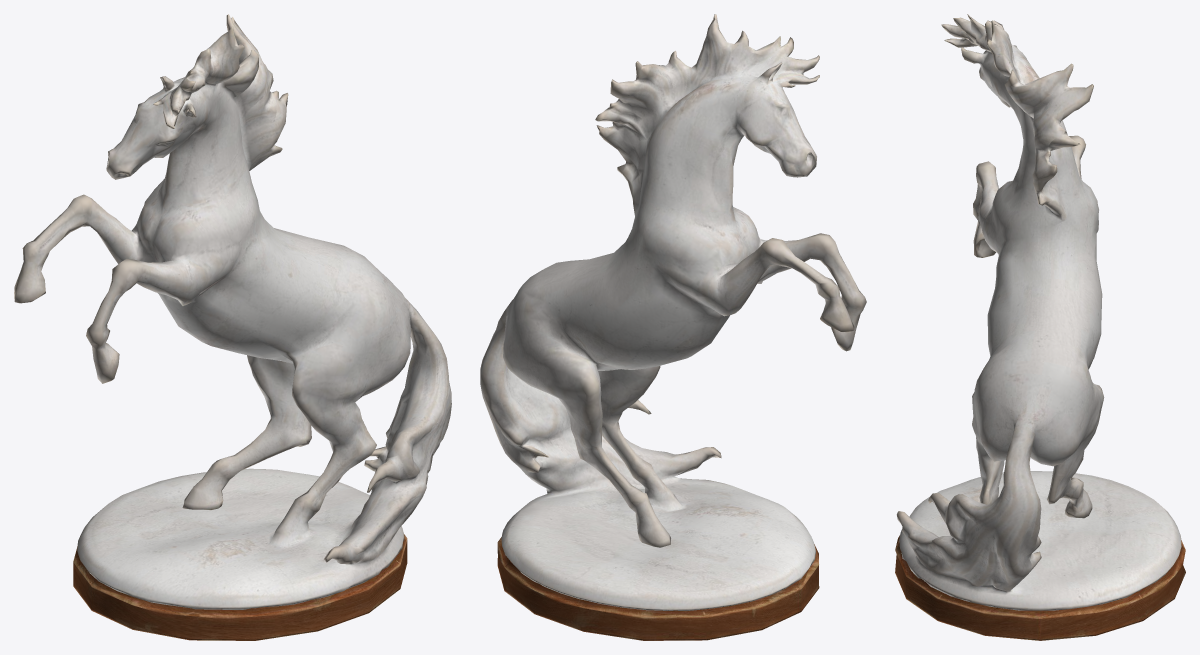
Rendered from horse_statue_01_lod2.glb.
The picture shows the model from 3 angles, left to right: view 1: azimuth 30°, elevation 25°; view 2: azimuth 150°, elevation 25°; view 3: azimuth 270°, elevation 25°; orthographic projection. The views are drawn at different scales.
Visible parts, largest first — view 1: horse_statue_01; view 2: horse_statue_01; view 3: horse_statue_01.
Boxes of the visible parts, bbox=[...] form: horse_statue_01: bbox=[14, 14, 451, 640]; horse_statue_01: bbox=[480, 14, 866, 640]; horse_statue_01: bbox=[895, 14, 1185, 640].
Size of the model in its own units: 0.1637 by 0.2199 by 0.1078.
Materials: 2 (2 with a texture image).
